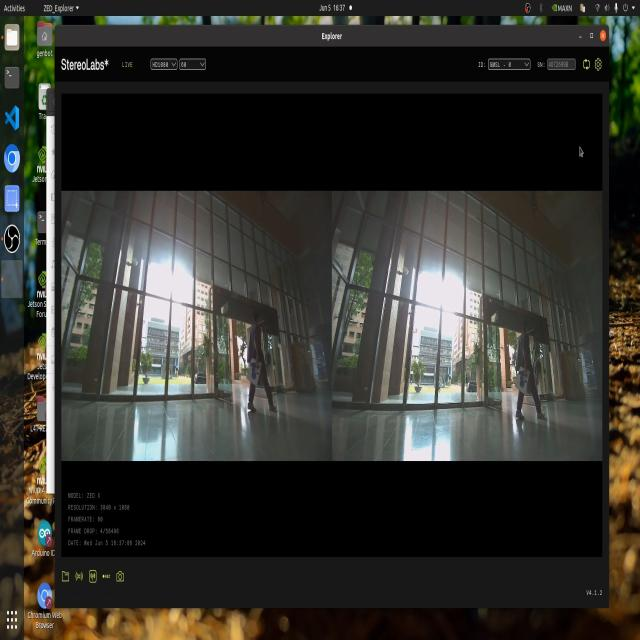blue: (248, 355, 264, 399), (514, 364, 529, 396)
